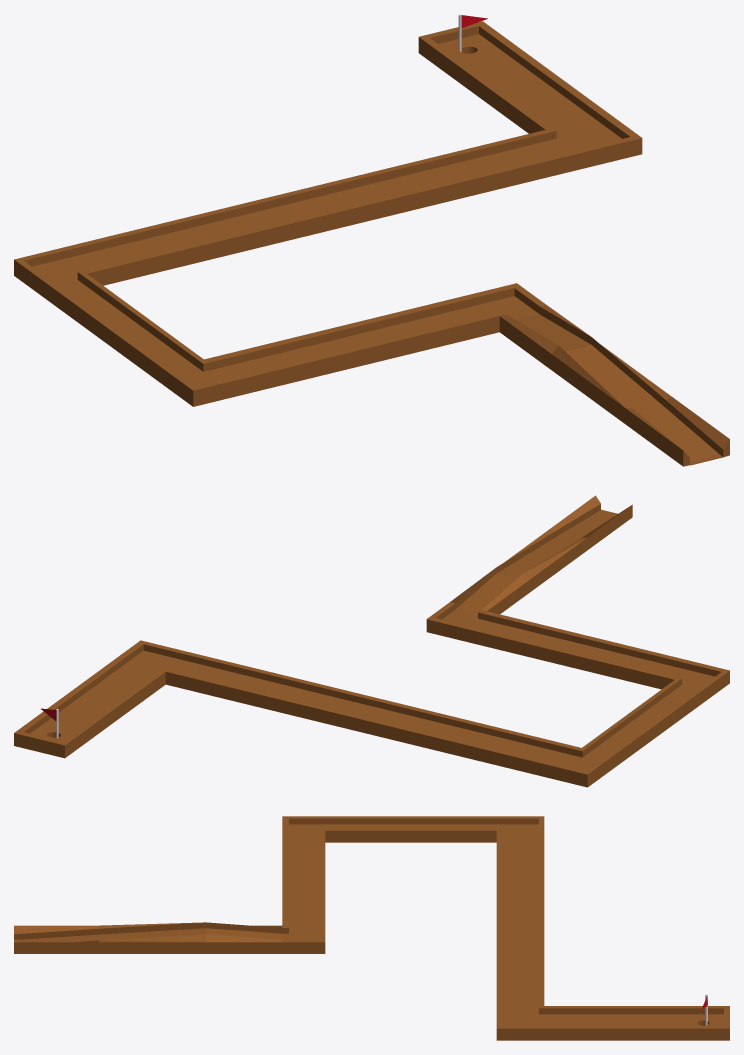
File: golff.fbx
The picture shows the model from 3 angles, top to bottom: view 1: azimuth 30°, elevation 25°; view 2: azimuth 150°, elevation 25°; view 3: azimuth 270°, elevation 25°; orthographic projection. The views are drawn at different scales.
Visible parts, largest first — view 1: Cube; view 2: Cube; view 3: Cube.
Boxes of the visible parts, x1,y1,x2,y2 form: Cube: [14, 21, 729, 466]; Cube: [14, 495, 729, 787]; Cube: [14, 816, 729, 1040].
Size of the model in its own units: 3309 by 241 by 4715.
